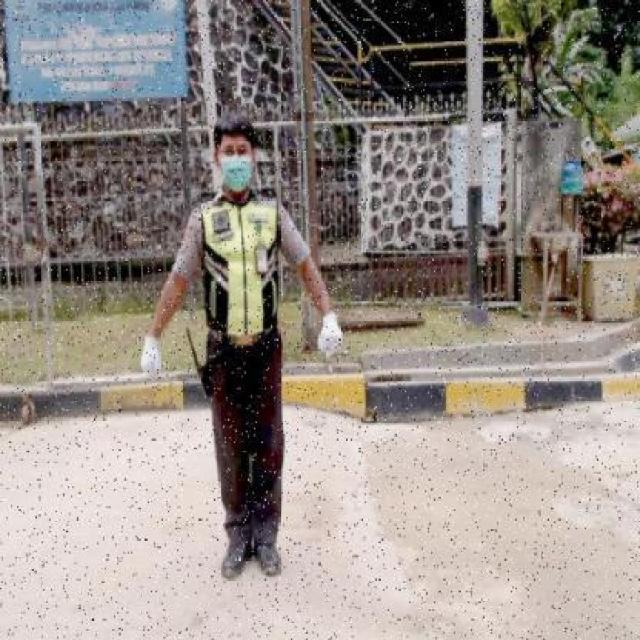Boots: (217, 538, 254, 582), (253, 542, 284, 582)
Gloves: (317, 311, 345, 358), (139, 333, 163, 381)
Mask: (220, 158, 252, 190)
